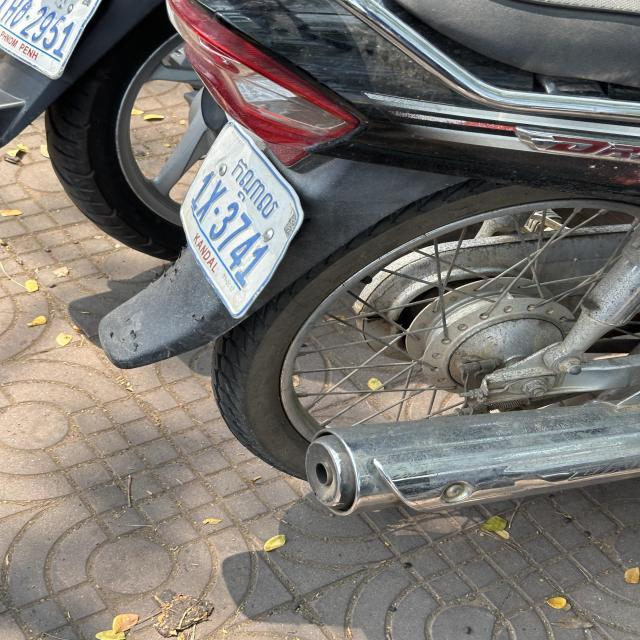Kandal: (232, 158, 282, 218)
